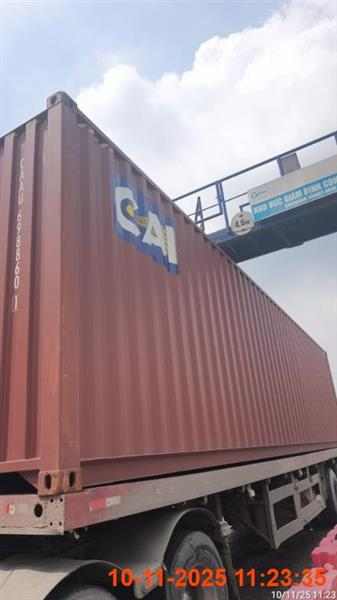broken: (1, 92, 336, 599)
